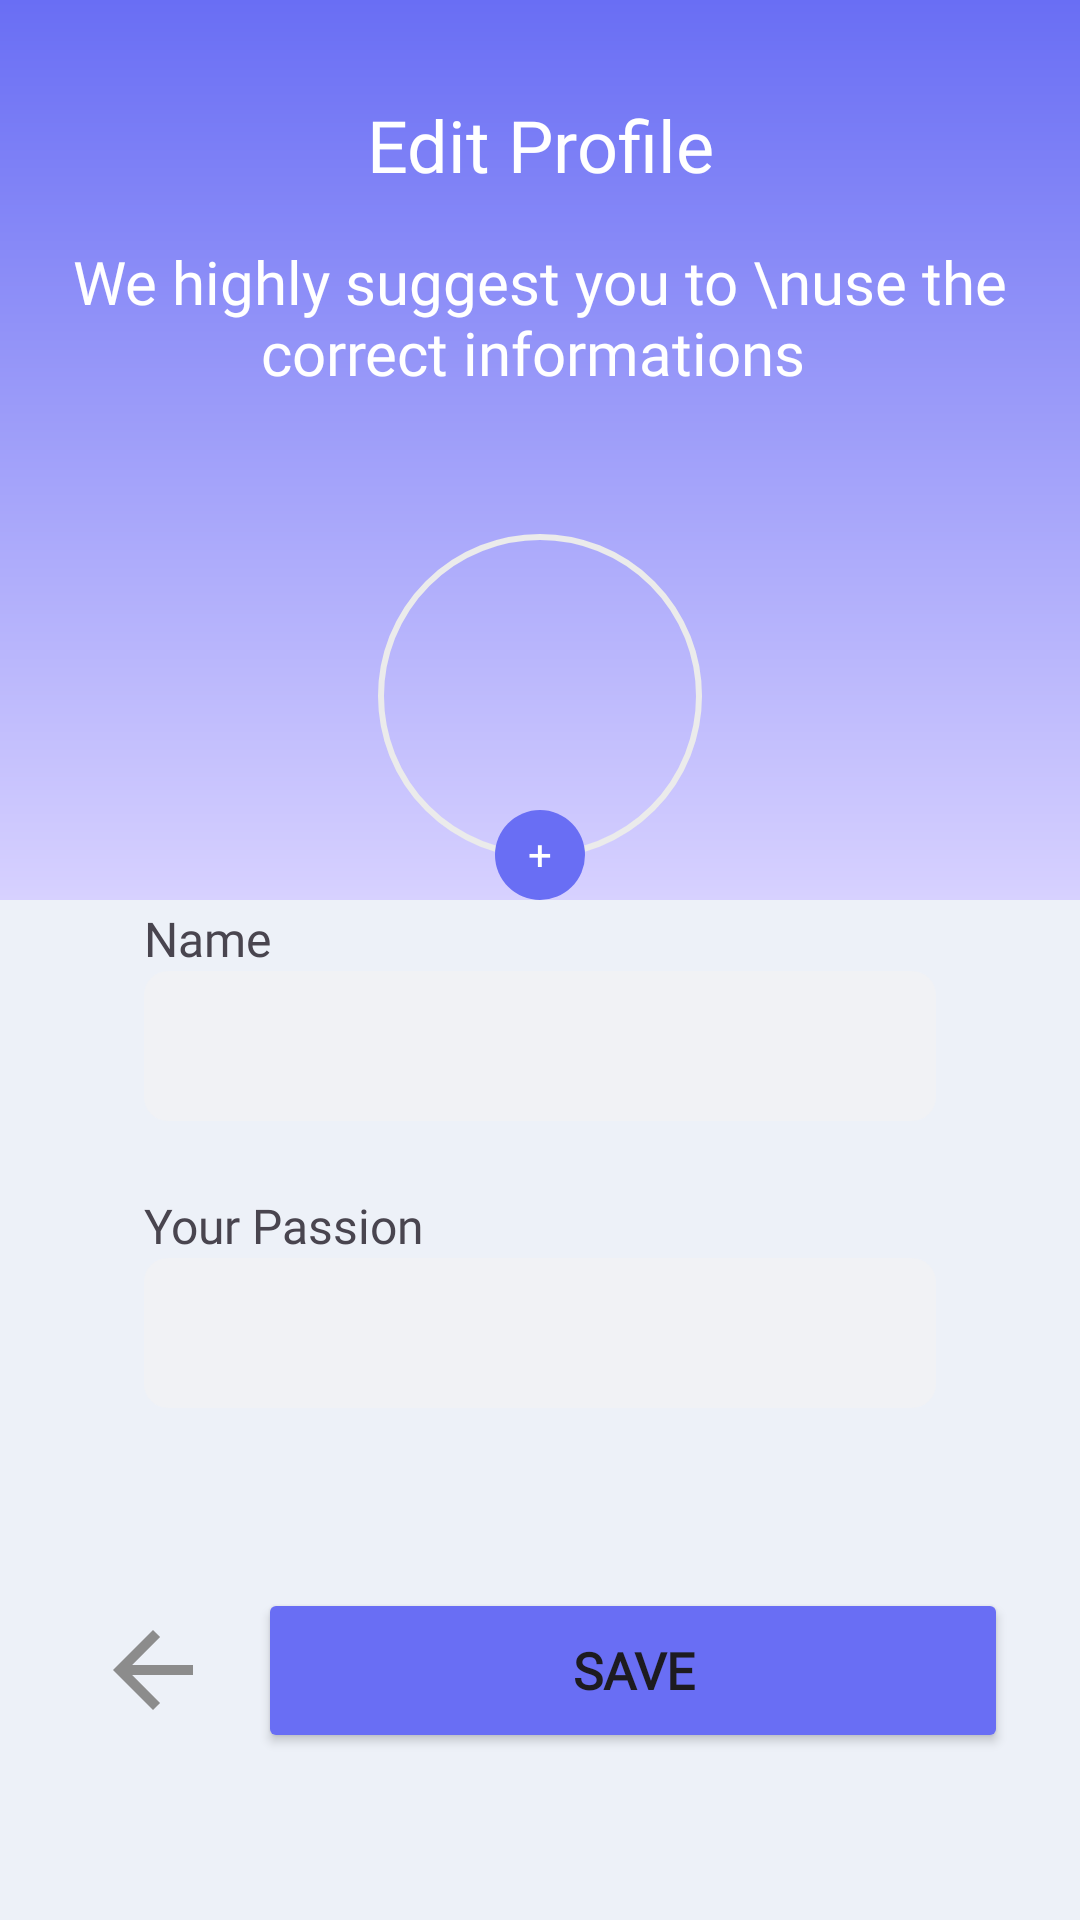

Where icons sit on this 1080 × 1920 app screen, as box=[x1, y1, x2, y2]:
back: box=[113, 1630, 193, 1710]
